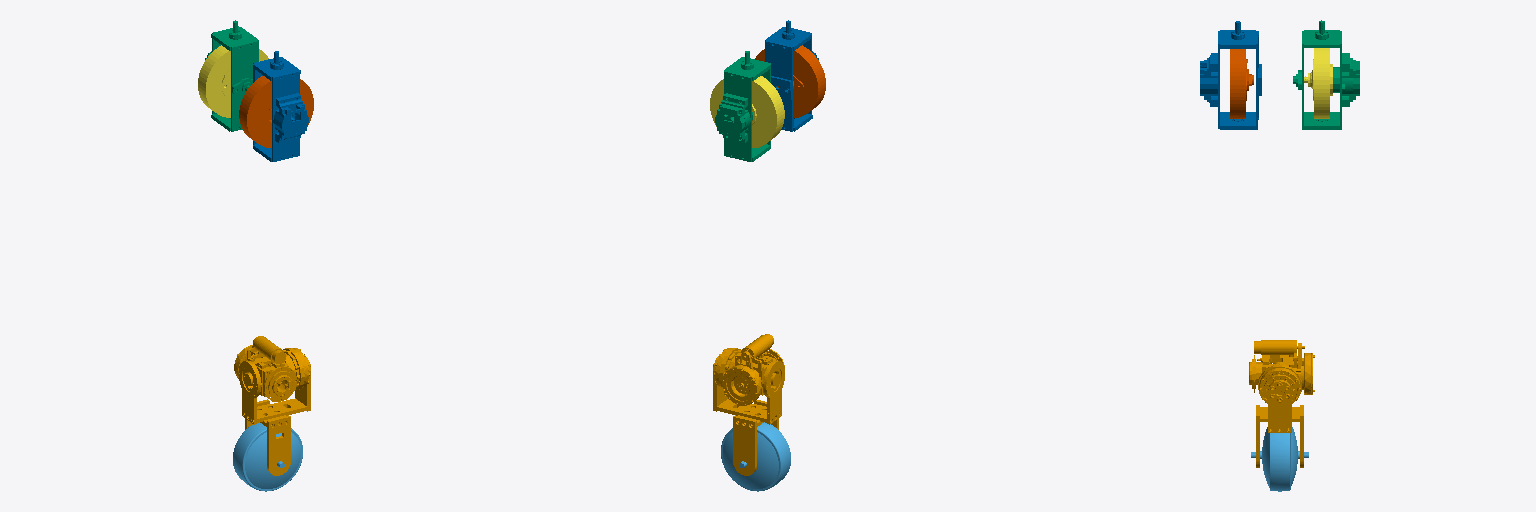
--- What the picture shows (computed from the rendered views, not written in the file) ---
The picture shows the robot from 3 angles, left to right: view 1: azimuth 30°, elevation 25°; view 2: azimuth 150°, elevation 25°; view 3: azimuth 270°, elevation 25°; orthographic projection.
Model wheeled_inverted_pendulum with 10 links and 9 joints (2 revolute, 6 continuous, 1 fixed), rooted at cmg, posed all joints at 0.
Visible links, largest first — view 1: ankle_link, Right_gimbal, wheel_link, Left_gimbal, Right_flywheel, Left_flywheel; view 2: ankle_link, Left_gimbal, wheel_link, Right_gimbal, Left_flywheel, Right_flywheel; view 3: ankle_link, Left_gimbal, Right_gimbal, wheel_link, Left_flywheel, Right_flywheel.
Boxes of the visible links, x1,y1,x2,y2 form: ankle_link: (234,336,310,475); Right_gimbal: (253,51,308,161); wheel_link: (233,422,302,491); Left_gimbal: (205,20,258,131); Right_flywheel: (239,76,313,147); Left_flywheel: (198,45,268,117); ankle_link: (713,334,784,475); Left_gimbal: (715,51,770,161); wheel_link: (721,422,790,491); Right_gimbal: (765,20,818,131); Left_flywheel: (710,76,784,147); Right_flywheel: (755,45,825,117); ankle_link: (1249,340,1314,467); Left_gimbal: (1293,20,1359,129); Right_gimbal: (1200,21,1261,129); wheel_link: (1251,427,1308,491); Left_flywheel: (1304,48,1332,118); Right_flywheel: (1230,49,1253,118).
Bounding box of the posed robot: 0.1868 × 0.3059 × 0.9682 m (x, y, z).
6 mesh visuals loaded from 9 distinct referenced files (6 binary STL); not drawn: 3 (reference not matched to a file when rendering).

The robot description file, URDF, robot "wheeled_inverted_pendulum":
<?xml version="1.0"?>

<robot name="wheeled_inverted_pendulum">

        <link name="cmg">		    
		</link>

        <joint name="cmg_hip_joint" type="fixed">
		    <origin xyz="0 0 0.845" rpy="0.0 0.0 0.0" /> 
		    <parent link="cmg"/>
		    <child link="cmg_hip_link"/>
		</joint> 
        <!-- 1.022142 -->
        <!-- HEIGHT=0.9, origin 0.845-->

        <link name="cmg_hip_link">
            <visual>
                <origin xyz="0 0 0" rpy="1.5708 0.0 0"/> <!--xyz="0.0 0.0 0.0" rpy="0 0.0 0" -->
                <geometry>
                    <mesh filename="package://cmg_leg_description/meshes/cmg_hip_link.STL" scale="0.001 0.001 0.001"/>         
                </geometry>
                <material name=""/>
            </visual>

            <collision>
                <origin xyz="0 0 0" rpy="1.5708 0.0 0.0"/>
                <geometry>
                    <mesh filename="package://cmg_leg_description/meshes/cmg_hip_link.STL" scale="0.001 0.001 0.001"/>
                </geometry>
            </collision>

            <inertial>
                <mass value="7.774" /> <!--3.037-->
                <origin xyz="0 0 -0.149641" rpy="1.5708 0.0 0"/>
                <inertia ixx="0.139286607" ixy="0.004107971"  ixz="-0.000319636"  iyy="0.064161554"  iyz="-0.0020881"  izz="0.141628284" />
            </inertial>
        </link>

<!-- ######################################################################################### -->

        <joint name="Left_gimbal_joint" type="revolute">
            <!-- <origin xyz="-0.000001 0.08 -0.0015" rpy="0 0 1.57"/> -->
            <origin xyz="0 0.08 0" rpy="0 0 0"/>
            <axis xyz="0 0 1" />
            <parent link="cmg_hip_link"/>
            <child link="Left_gimbal"/>            
            <limit effort="100" velocity="100" upper="1.57" lower="-1.57"/>
            <!-- <calibration falling="1.0"/> -->
            <joint_properties damping="0.0" friction="0.0"/>
            <mimic joint="Right_gimbal_joint" multiplier="-1.0"/>

        </joint>

<!-- ######################################################################################### -->

        <link name="Left_gimbal">
            <visual>
                <origin xyz="0.0 0.0 0.0" rpy="0 0.0 0"/> 
                <geometry>
                    <mesh filename="package://cmg_leg_description/meshes/left_gimbal_link.STL" scale="0.001 0.001 0.001"/>         
                </geometry>
                <material name=""/>
            </visual>
            <collision>
                <origin xyz="0 0 0" rpy="0 0.0 0.0"/>
                <geometry>
                    <mesh filename="package://cmg_leg_description/meshes/left_gimbal_link.STL" scale="0.001 0.001 0.001"/>        
                </geometry>
            </collision>
            <inertial>
                <mass value="0.92" /><!-- 1.095 -->
                <origin xyz="0 0 0" />
                <inertia ixx="0.004692" ixy="0" ixz="0" iyy="0.004132" iyz="0" izz="0.001112"/>
            </inertial>
        </link>

<!-- ######################################################################################### -->

         <joint name="Left_flywheel_joint" type="continuous">
            <origin xyz="0 0 0" rpy="0 0 0"/>
            <axis xyz="0 1 0" />
            <parent link="Left_gimbal"/>
            <child link="Left_flywheel"/>
            <limit effort="100" velocity="1000"/>
            <joint_properties damping="0.0" friction="0.0"/>
            <mimic joint="Right_gimbal_joint" multiplier="-1.0"/>
        </joint>

<!-- ######################################################################################### -->

        <link name="Left_flywheel">
            <visual>
                <origin xyz="0 0 0" rpy="0 0 0" />
                <geometry>
                    <mesh filename="package://cmg_leg_description/meshes/left_flywheel_link.STL" scale="0.001 0.001 0.001" />
                </geometry>
                <material name=""/>
            </visual>

            <collision>
                <geometry>
                    <mesh filename="package://cmg_leg_description/meshes/left_flywheel_link.STL" scale="0.001 0.001 0.001" />
                </geometry>
            </collision>

            <inertial>
                <mass value="3.73" />
                <origin xyz="0 0 0" />
                <inertia ixx="0.006235" ixy="0" ixz="0" iyy="0.0119107" iyz="0" izz="0.006235"/>
            </inertial>
        </link>

<!-- ######################################################################################### -->

        <joint name="Right_gimbal_joint" type="revolute">            
            <origin xyz="0 -0.08 0" rpy="0 0 0"/>
            <axis xyz="0 0 1" />
            <parent link="cmg_hip_link"/>
            <child link="Right_gimbal"/>            
            <limit effort="100" velocity="100" upper="1.57" lower="-1.57"/>
            <joint_properties damping="0.0" friction="0"/>
        </joint>

<!-- ######################################################################################### -->

        <link name="Right_gimbal">
            <visual>
                <origin xyz="0.0 0.0 0.0" rpy="0 0.0 3.14"/> 
                <geometry>
                    <mesh filename="package://cmg_leg_description/meshes/right_gimbal_link.STL" scale="0.001 0.001 0.001"/>         
                </geometry>
                <material name=""/>
            </visual>
            <collision>
                <origin xyz="0 0 0" rpy="0 0.0 3.14"/>
                <geometry>
                    <mesh filename="package://cmg_leg_description/meshes/right_gimbal_link.STL" scale="0.001 0.001 0.001"/>        
                </geometry>
            </collision>
            <inertial>
                <mass value="0.92" /><!-- 1.095 -->
                <origin xyz="0 0 0" />
                <inertia ixx="0.004692" ixy="0" ixz="0" iyy="0.004132" iyz="0" izz="0.001112"/>
            </inertial>
        </link>

<!-- ######################################################################################### -->

        <joint name="Right_flywheel_joint" type="continuous">
            <origin xyz="0 0 0" rpy="0 0 0"/>
            <axis xyz="0 1 0" />
            <parent link="Right_gimbal"/>
            <child link="Right_flywheel"/>
            <limit effort="100" velocity="1000"/>
            <joint_properties damping="0.0" friction="0.0"/>
        </joint>

<!-- ######################################################################################### -->

        <link name="Right_flywheel">
            <visual>
                <origin xyz="0 0 0" rpy="3.14 0 0" />
                <geometry>
                    <mesh filename="package://cmg_leg_description/meshes/right_flywheel_link.STL" scale="0.001 0.001 0.001" />
                </geometry>
                <material name=""/>
            </visual>

            <collision>
                <origin xyz="0 0 0" rpy="3.14 0 0" />
                <geometry>
                    <mesh filename="package://cmg_leg_description/meshes/right_flywheel_link.STL" scale="0.001 0.001 0.001" />
                </geometry>
            </collision>

            <inertial>
                <mass value="3.73" />
                <origin xyz="0 0 0" />
                <inertia ixx="0.006235" ixy="0" ixz="0" iyy="0.0119107" iyz="0" izz="0.006235"/>
            </inertial>
        </link>

<!-- ######################################################################################### -->

        <joint name="hip_pitch_joint" type="continuous">
		    <!-- <origin xyz="0 -0.0045 -0.451221" rpy="0.0 0.0 0.0" />  -->
		    <origin xyz="0 0 -0.2222" rpy="0.0 -0.885462876712376 0.0" />
            <!-- -0.8  -->
            <axis xyz="0 1 0"/>
		    <parent link="cmg_hip_link"/>
		    <child link="hip_to_knee_link" />
            <limit effort="1000" velocity="1000"/>
            <joint_properties damping="0.0" friction=".0"/>
		</joint> 

        <link name="hip_to_knee_link">
            <visual>
                <origin xyz="0.0 0.0665 0" rpy="3.14 0 0"/> 
                <geometry>
                    <mesh filename="package://cmg_leg_description/meshes/hip_to_knee_link.STL" scale="0.001 0.001 0.001"/>         
                </geometry>
                <material name=""/>
                    
            </visual>

            <collision>
                <origin xyz="0 0.0665 0.0" rpy="3.14 0 0"/>
                <geometry>
                    <!-- <box size = "  0.127 0.168778 0.958442 "/>                     -->
                    <mesh filename="package://cmg_leg_description/meshes/hip_to_knee_link.STL" scale="0.001 0.001 0.001"/>
                </geometry>
            </collision>

            <inertial>
                <mass value="1.739" /> 
                <origin xyz="0.0 0 -0.18878" rpy="3.14 0 0"/>
                <inertia ixx="0.008595913" ixy="0.000104152"  ixz="0.000298503"  iyy="0.007917693"  iyz="-0.000246913" izz="0.002944951" />
            </inertial>
        </link> 
<!-- ######################################################################################### -->

        <joint name="knee_joint" type="continuous">
		    <origin xyz="0 0 -0.28" rpy="0.0 1.63070174355873 0.0" /> 
            <!-- 1.5 -->
            <axis xyz="0 1 0"/>
		    <parent link="hip_to_knee_link"/>
		    <child link="knee_ankle_link" />
            <limit effort="1000" velocity="1000"/>
            <joint_properties damping="0.0" friction="0.0"/>
		</joint> 

        <link name="knee_ankle_link">
            <visual>
                <origin xyz="0.000045 -0.059 0" rpy="3.14 -0 0"/> 
                <geometry>
                    <mesh filename="package://cmg_leg_description/meshes/knee_to_ankle_pitch_link.STL" scale="0.001 0.001 0.001"/>         
                </geometry>
                <material name=""/>
                    
            </visual>

            <collision>
                <origin xyz="0.000045 -0.059 0" rpy="3.14 -0 0"/>
                <geometry>
                    <!-- <box size = "  0.127 0.168778 0.958442 "/>                     -->
                    <mesh filename="package://cmg_leg_description/meshes/knee_to_ankle_pitch_link.STL" scale="0.001 0.001 0.001"/>
                </geometry>
            </collision>

            <inertial>
                <mass value="1.416" /> 
                <origin xyz="0.0 0 -0.045289" rpy="3.14 -0 0"/>
                <inertia ixx="0.010192583" ixy="0.000128782"  ixz="0.000780769"  iyy="0.009599672"  iyz="-0.000476197" izz="0.002390603" />
            </inertial>
        </link> 
<!-- ######################################################################################### -->

        <joint name="ankle_pitch_joint" type="continuous">
		    <origin xyz="0 0 -0.279942" rpy="0.0 -0.745238866846359 0.0" /> 
            <!-- -0.7 -->
            <axis xyz="0 1 0"/>
		    <parent link="knee_ankle_link"/>
		    <child link="ankle_link" />
            <limit effort="1000" velocity="1000"/>
            <joint_properties damping="0.0" friction="0.0"/>
		</joint> 

        <link name="ankle_link">
            <visual>
                <origin xyz="0.0 0.0 0.0" rpy="0 0.0 0"/> 
                <geometry>
                    <mesh filename="package://cmg_leg_description/meshes/ankle_link.STL" scale="0.001 0.001 0.001"/>         
                </geometry>
                <material name=""/>
                    
            </visual>

            <collision> 
                <origin xyz="0 0 0" rpy="0 0.0 0"/>
                <geometry>
                    <!-- <box size = "  0.127 0.168778 0.958442 "/>                     -->
                    <mesh filename="package://cmg_leg_description/meshes/ankle_link.STL" scale="0.001 0.001 0.001"/>
                </geometry>
            </collision>

            <inertial>
                <mass value="2.486" /> 
                <origin xyz="0.0 0.0 0.0" rpy="0 0.0 0"/>
                <inertia ixx="0.00613516" ixy="0.000236068"  ixz="0.000181401"  iyy="0.00614941"  iyz="0.000207986" izz="0.004981955" />
            </inertial>
        </link> 


<!-- ######################################################################################### -->

        <joint name="wheel_joint" type="continuous">
		    <!-- <origin xyz="0 -0.0045 -0.451221" rpy="0.0 0.0 0.0" />  -->
		    <origin xyz="0 0 -0.171" rpy="0.0 0.0 0.0" /> 
            <axis xyz="0 1 0"/>
		    <parent link="ankle_link"/>
		    <child link="wheel_link" />
            <limit effort="1000" velocity="1000"/>
            <joint_properties damping="1.0" friction="1.0"/>
		</joint>

         <link name="wheel_link">
            <visual>
                <origin xyz="0.0 0.0 -0.0" rpy="0 0.0 0"/> 
                <geometry>
                    <mesh filename="package://cmg_leg_description/meshes/wheel_link.STL" scale="0.001 0.001 0.001"/>         
                </geometry>
                <material name=""/>
            </visual>

            <collision>                
                <origin xyz="0 0 -0.0" rpy="0 0.0 0"/>
                <geometry>
                    <mesh filename="package://cmg_leg_description/meshes/wheel_link.STL" scale="0.001 0.001 0.001"/>                 
                </geometry>
            </collision>

            <inertial>
                <mass value="2.292" />
                <origin xyz="0 0 -0.0" />
                <inertia ixx="0.002997277" ixy="0.0" ixz="0.0" iyy="0.004806909" iyz="0.0" izz="0.002997301"/>
            </inertial>
        </link> 

<!-- ######################################################################################### -->

        <gazebo reference="frame">
            <mu1>1.0</mu1>
            <mu2>1.0</mu2> 
            <kp>1e+13</kp>
            <kd>1.0</kd>
            <maxVel>0.001</maxVel>
            <minDepth>0.00000000001</minDepth>
            <gravity>1</gravity>
            <material>Gazebo/Grey</material>
            <!-- <selfCollide>true</selfCollide> -->
        </gazebo>

        <gazebo reference="Left_gimbal">
            <mu1>1.0</mu1>
            <mu2>1.0</mu2> 
            <kp>1e+13</kp>
            <kd>1.0</kd>
            <maxVel>0.001</maxVel>
            <minDepth>0.00000000001</minDepth>
            <gravity>1</gravity>
            <material>Gazebo/Grey</material>
            <selfCollide>true</selfCollide>
        </gazebo>

        <gazebo reference="Left_flywheel">
            <mu1>1.0</mu1>
            <mu2>1.0</mu2> 
            <kp>1e+13</kp>
            <kd>1.0</kd>
            <maxVel>0.001</maxVel>
            <minDepth>0.00000000001</minDepth>
            <gravity>1</gravity>
            <material>Gazebo/White</material>
        </gazebo>


        <gazebo reference="Right_gimbal">
            <mu1>1.0</mu1>
            <mu2>1.0</mu2> 
            <kp>1e+13</kp>
            <kd>1.0</kd>
            <maxVel>0.001</maxVel>
            <minDepth>0.00000000001</minDepth>
            <gravity>1</gravity>
            <material>Gazebo/Grey</material>
            <selfCollide>true</selfCollide>
        </gazebo>

        <gazebo reference="Right_flywheel">
            <mu1>1.0</mu1>
            <mu2>1.0</mu2> 
            <kp>1e+13</kp>
            <kd>1.0</kd>
            <maxVel>0.001</maxVel>
            <minDepth>0.00000000001</minDepth>
            <gravity>1</gravity>
            <material>Gazebo/White</material>
        </gazebo>


<!-- ######################################################################################### -->

        <gazebo reference="hip_link">
            <mu1>1.0</mu1>
            <mu2>1.0</mu2> 
            <kp>1e+13</kp>
            <kd>1.0</kd>
            <maxVel>0.001</maxVel>
            <minDepth>0.00000000001</minDepth>
            <gravity>1</gravity>
            <material>Gazebo/Grey</material>
        </gazebo>

        <gazebo reference="hip_to_knee_link">
            <mu1>1.0</mu1>
            <mu2>1.0</mu2> 
            <kp>1e+13</kp>
            <kd>1.0</kd>
            <maxVel>0.001</maxVel>
            <minDepth>0.00000000001</minDepth>
            <gravity>1</gravity>
            <material>Gazebo/Grey</material>
        </gazebo>

        <gazebo reference="knee_ankle_link">
            <mu1>1.0</mu1>
            <mu2>1.0</mu2> 
            <kp>1e+13</kp>
            <kd>1.0</kd>
            <maxVel>0.001</maxVel>
            <minDepth>0.00000000001</minDepth>
            <gravity>1</gravity>
            <material>Gazebo/Grey</material>
        </gazebo>

        <gazebo reference="ankle_link">
            <mu1>1.0</mu1>
            <mu2>1.0</mu2> 
            <kp>1e+13</kp>
            <kd>1.0</kd>
            <maxVel>0.001</maxVel>
            <minDepth>0.00000000001</minDepth>
            <gravity>1</gravity>
            <material>Gazebo/Grey</material>
        </gazebo>

        <gazebo reference="wheel_link">
            <collision name="wheel_collision">
                <surface>
                    <friction>
                        <torsional>
                            <coefficient>1</coefficient>
                            <use_patch_radius>true</use_patch_radius>
                            <patch_radius>0.02</patch_radius>
                        </torsional>
                    </friction>
                </surface>
            </collision>
            <mu1>1.0</mu1>
            <mu2>1.0</mu2> 
            <kp>1e+13</kp>
            <kd>1.0</kd>
            <maxVel>0.001</maxVel>
            <minDepth>0.00000000001</minDepth>
            <gravity>1</gravity>
            <material>Gazebo/White</material>
        </gazebo>


<!-- ######################################################################################### -->

        <gazebo>
            <plugin name="gazebo_ros_control" filename="libgazebo_ros_control.so">
                <controlPeriod>0.001</controlPeriod>
                <robotNamespace>/wheeled_inverted_pendulum</robotNamespace>
                <!-- <jointName> Right_gimbal_joint, Left_gimbal_joint, Left_flywheel_joint, Right_flywheel_joint, hip_roll_joint, hip_pitch_joint, knee_joint, ankle_pitch_joint, ankle_roll_joint, wheel_joint </jointName> -->
                <robotSimType>gazebo_ros_control/DefaultRobotHWSim</robotSimType>
                <legacyModeNS>true</legacyModeNS>
            </plugin>
        </gazebo>

        <gazebo>
            <plugin name="mimic_control" filename="libroboticsgroup_upatras_gazebo_mimic_joint_plugin.so">
                <joint>Right_gimbal_joint</joint>
                <mimicJoint>Left_gimbal_joint</mimicJoint>
                <multiplier>-1.0</multiplier>
                <!-- <hasPID>/gazebo_ros_control/pid_gains/Left_gimbal_joint</hasPID> -->
                <!-- /gazebo_ros_control/pid_gains/Left_gimbal_joint -->
            </plugin>
        </gazebo>

        <transmission name="Left_flywheel_trans">
            <type>transmission_interface/SimpleTransmission</type>
            <joint name="Left_flywheel_joint" >
                <hardwareInterface>hardware_interface/VelocityJointInterface</hardwareInterface>
            </joint>
            <actuator name="Left_flywheel_motor">
                <hardwareInterface>hardware_interface/VelocityJointInterface</hardwareInterface>
                <mechanicalReduction>1</mechanicalReduction>
            </actuator>
        </transmission>

        <!-- <transmission name="Left_gimbal_trans">
            <type>transmission_interface/SimpleTransmission</type>
            <joint name="Left_gimbal_joint" >
                <hardwareInterface>hardware_interface/EffortJointInterface</hardwareInterface>
            </joint>
            <actuator name="Left_gimbal_motor">
                <hardwareInterface>hardware_interface/EffortJointInterface</hardwareInterface>
                <mechanicalReduction>1</mechanicalReduction>
            </actuator>
        </transmission> -->


        <transmission name="Right_flywheel_trans">
            <type>transmission_interface/SimpleTransmission</type>
            <joint name="Right_flywheel_joint" >
                <hardwareInterface>hardware_interface/VelocityJointInterface</hardwareInterface>
            </joint>
            <actuator name="Right_flywheel_motor">
                <hardwareInterface>hardware_interface/VelocityJointInterface</hardwareInterface>
                <mechanicalReduction>1</mechanicalReduction>
            </actuator>
        </transmission>

        <transmission name="Right_gimbal_trans">
            <type>transmission_interface/SimpleTransmission</type>
            <joint name="Right_gimbal_joint" >
                <hardwareInterface>hardware_interface/EffortJointInterface</hardwareInterface>
            </joint>
            <actuator name="Right_gimbal_motor">
                <hardwareInterface>hardware_interface/EffortJointInterface</hardwareInterface>
                <mechanicalReduction>1</mechanicalReduction>
            </actuator>
        </transmission>

<!-- ######################################################################################### -->

        <!-- <transmission name="hip_roll_trans">
            <type>transmission_interface/SimpleTransmission</type>
            <joint name="hip_roll_joint" >
                <hardwareInterface>hardware_interface/PositionJointInterface</hardwareInterface>
            </joint>
            <actuator name="hip_roll_motor">
                <hardwareInterface>hardware_interface/PositionJointInterface</hardwareInterface>
                <mechanicalReduction>1</mechanicalReduction>
            </actuator>
        </transmission> -->

        <transmission name="hip_pitch_trans">
            <type>transmission_interface/SimpleTransmission</type>
            <joint name="hip_pitch_joint" >
                <hardwareInterface>hardware_interface/PositionJointInterface</hardwareInterface>
            </joint>
            <actuator name="hip_pitch_motor">
                <hardwareInterface>hardware_interface/PositionJointInterface</hardwareInterface>
                <mechanicalReduction>1</mechanicalReduction>
            </actuator>
        </transmission>


        <transmission name="knee_trans">
            <type>transmission_interface/SimpleTransmission</type>
            <joint name="knee_joint" >
                <hardwareInterface>hardware_interface/PositionJointInterface</hardwareInterface>
            </joint>
            <actuator name="knee_motor">
                <hardwareInterface>hardware_interface/PositionJointInterface</hardwareInterface>
                <mechanicalReduction>1</mechanicalReduction>
            </actuator>
        </transmission>

        <transmission name="ankle_pitch_trans">
            <type>transmission_interface/SimpleTransmission</type>
            <joint name="ankle_pitch_joint" >
                <hardwareInterface>hardware_interface/PositionJointInterface</hardwareInterface>
            </joint>
            <actuator name="ankle_pitch_motor">
                <hardwareInterface>hardware_interface/PositionJointInterface</hardwareInterface>
                <mechanicalReduction>1</mechanicalReduction>
            </actuator>
        </transmission>

        <!-- <transmission name="ankle_roll_trans">
            <type>transmission_interface/SimpleTransmission</type>
            <joint name="ankle_roll_joint" >
                <hardwareInterface>hardware_interface/PositionJointInterface</hardwareInterface>
            </joint>
            <actuator name="ankle_roll_motor">
                <hardwareInterface>hardware_interface/PositionJointInterface</hardwareInterface>
                <mechanicalReduction>1</mechanicalReduction>
            </actuator>
        </transmission> -->

        <transmission name="wheel_trans">
            <type>transmission_interface/SimpleTransmission</type>
            <joint name="wheel_joint" >
                <hardwareInterface>hardware_interface/EffortJointInterface</hardwareInterface>
            </joint>
            <actuator name="wheel_motor">
                <hardwareInterface>hardware_interface/EffortJointInterface</hardwareInterface>
                <mechanicalReduction>1</mechanicalReduction>
            </actuator>
        </transmission>

<!-- EffortJointInterface
PositionJointInterface
VelocityJointInterface -->

</robot>
